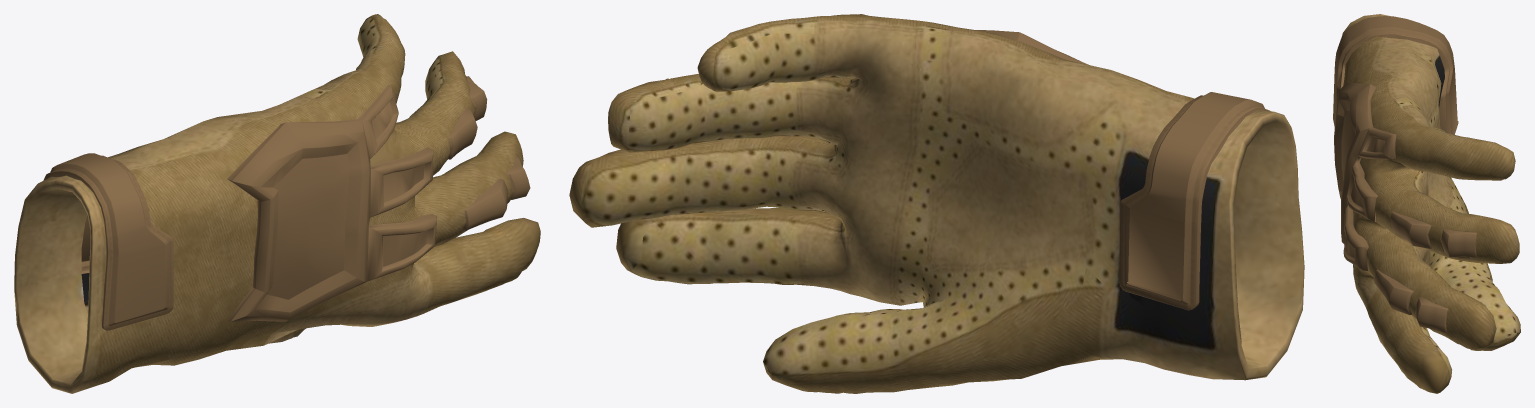
File: gloves1.glb
The picture shows the model from 3 angles, left to right: view 1: azimuth 30°, elevation 25°; view 2: azimuth 150°, elevation 25°; view 3: azimuth 270°, elevation 25°; orthographic projection. The views are drawn at different scales.
Parts seen in each view (by area): view 1: guante militar_guante militar_0; view 2: guante militar_guante militar_0; view 3: guante militar_guante militar_0.
Boxes of the visible parts, x1,y1,x2,y2 form: guante militar_guante militar_0: (14,14,540,393); guante militar_guante militar_0: (569,14,1304,393); guante militar_guante militar_0: (1333,14,1520,393).
Size of the model in its own units: 4 by 2.05 by 1.49.
1 material, 1 textured.
